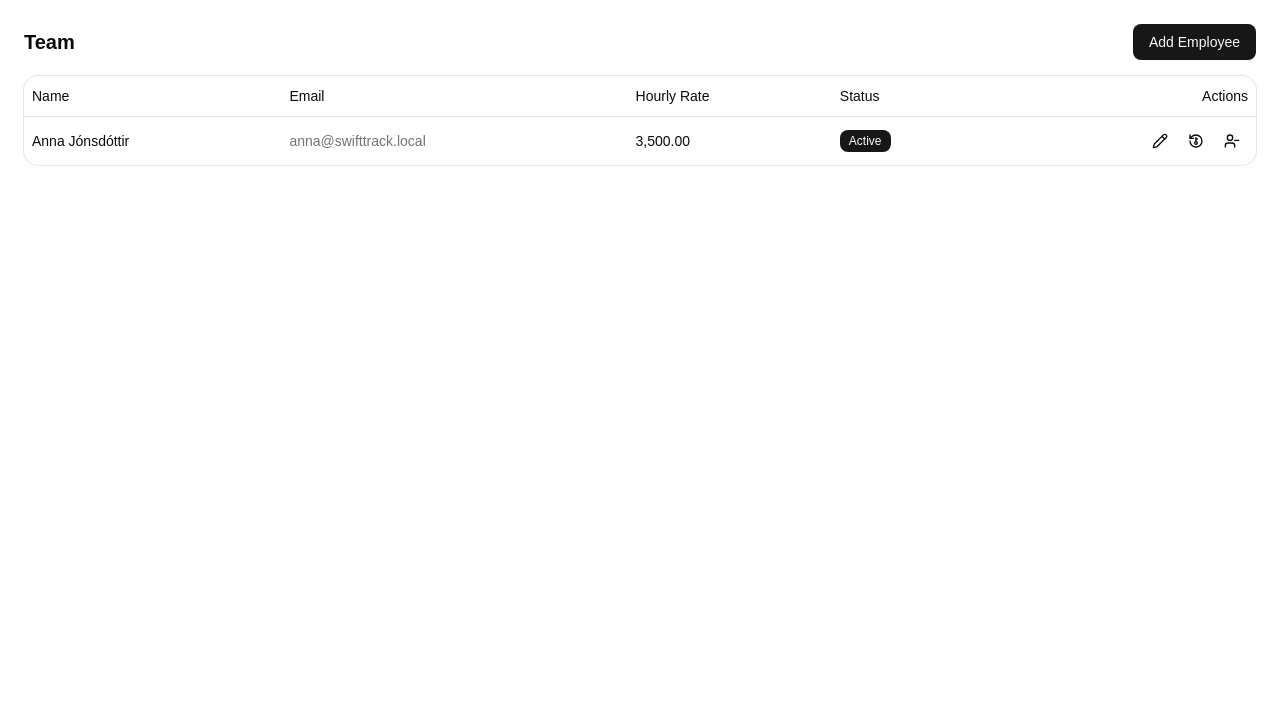
it: TeamPage — deactivating › says the history is kept and that it CAN be undone
Step 1. Click the button named "Deactivate" → (1232, 140), box [1216, 124, 1248, 156]
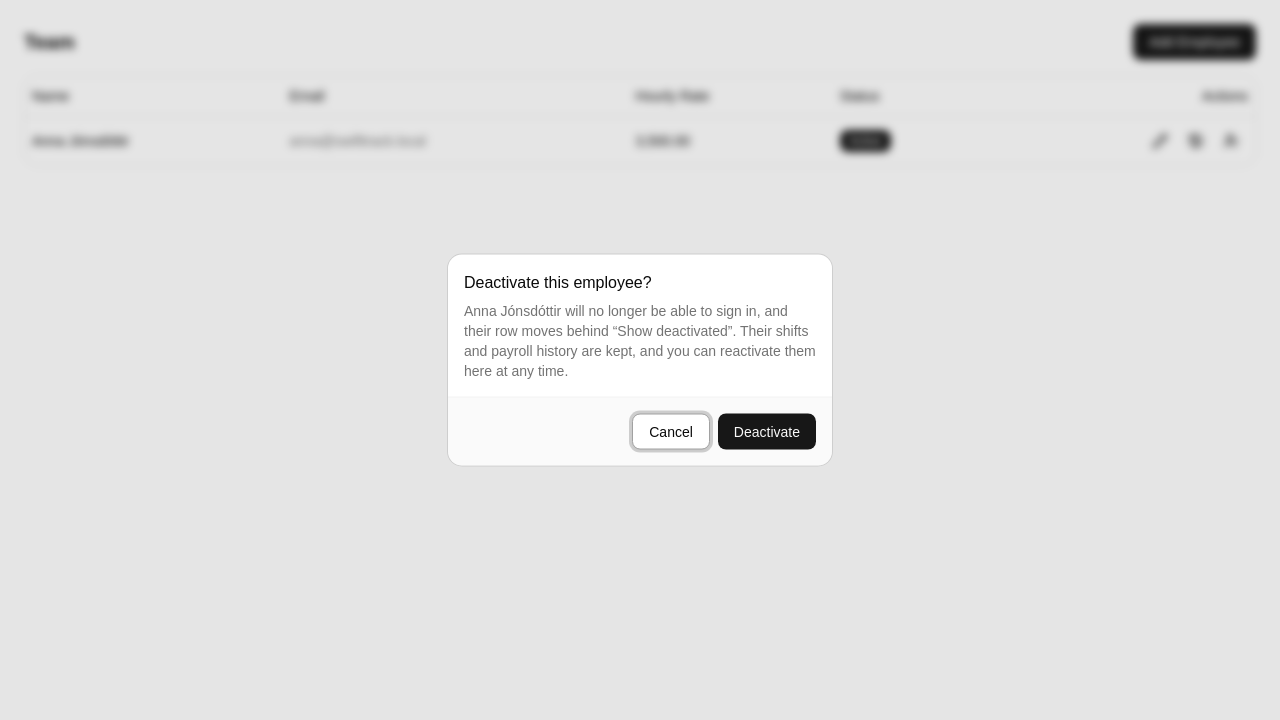
expect the text "shifts and payroll history are kept" is shown: met, box [464, 302, 816, 378]
